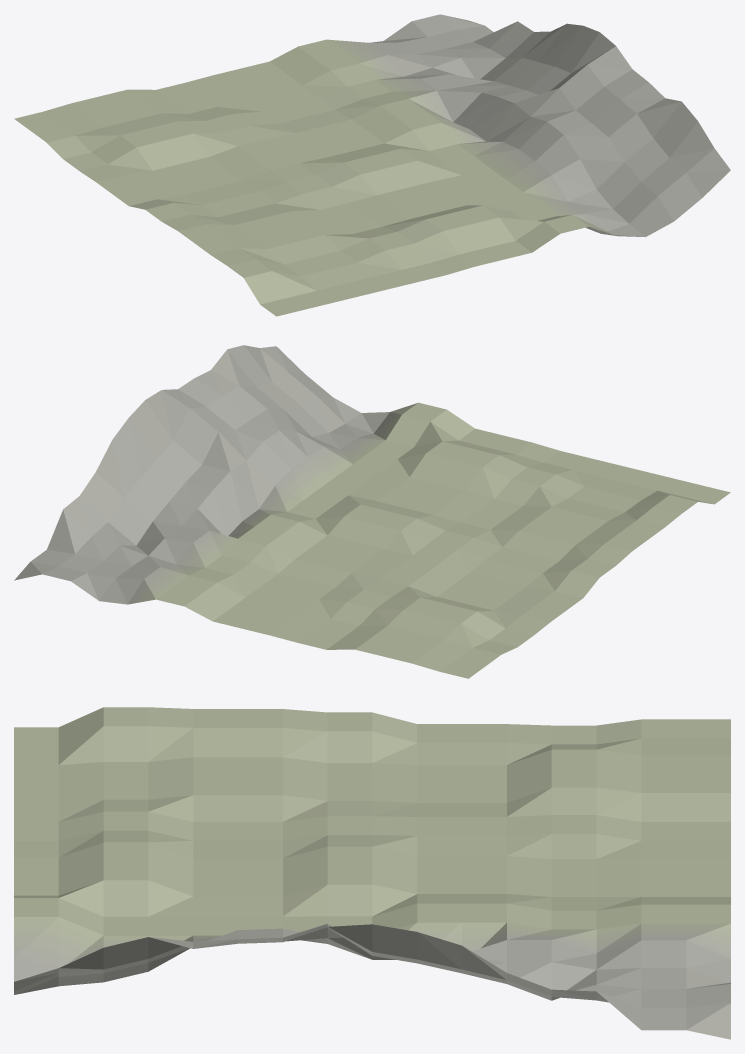
3 renders of one model, top to bottom at view 1: azimuth 30°, elevation 25°; view 2: azimuth 150°, elevation 25°; view 3: azimuth 270°, elevation 25°, orthographic. The views are drawn at different scales.
Bounding box in the file's own units: 32 × 6.05 × 32.
